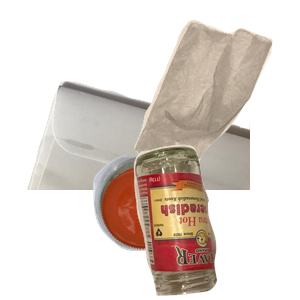glass: (131, 142, 300, 300)
paper: (25, 79, 265, 259)
plastic: (91, 152, 281, 300)
trash: (132, 17, 300, 177)
